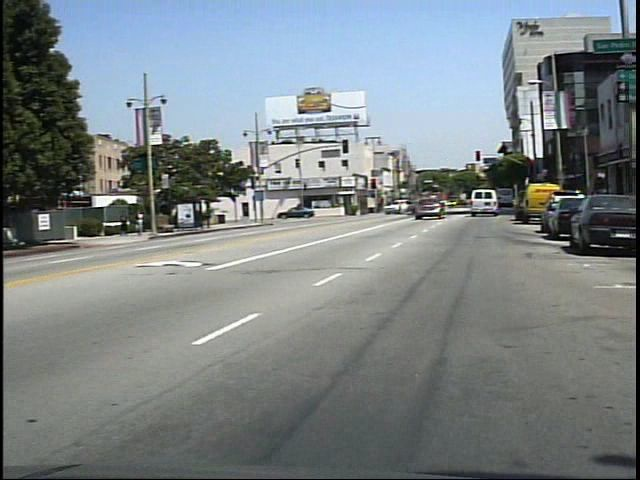person: (140, 208, 156, 238), (298, 194, 314, 221), (124, 212, 138, 239)
